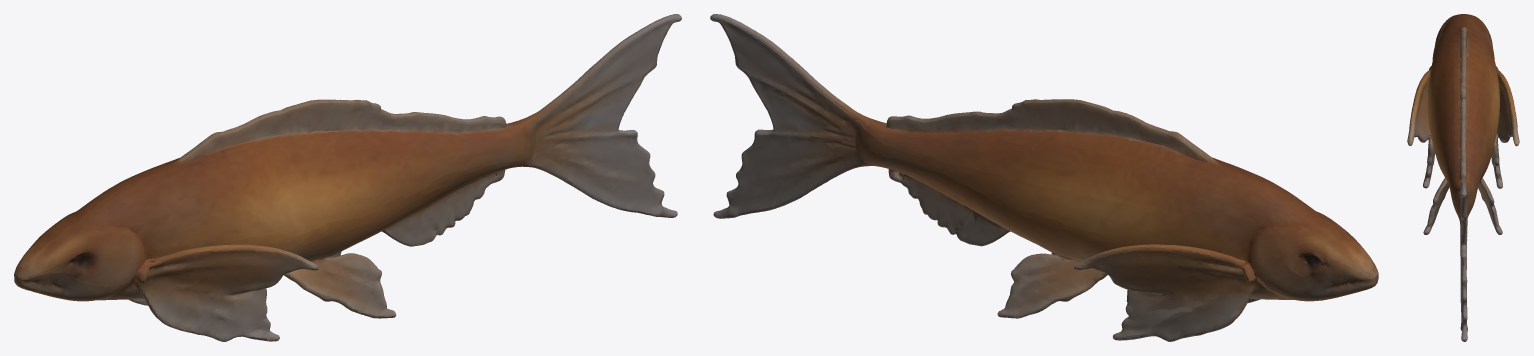
Rendered from fish_hero_parts.glb.
The picture shows the model from 3 angles, left to right: view 1: azimuth 30°, elevation 25°; view 2: azimuth 150°, elevation 25°; view 3: azimuth 270°, elevation 25°; orthographic projection. The views are drawn at different scales.
Visible parts, largest first — view 1: world; view 2: world; view 3: world.
Part boxes in pixels (x1,y1,x2,y2): world: [14, 14, 681, 341]; world: [710, 14, 1378, 341]; world: [1407, 14, 1519, 341].
Size of the model in its own units: 1.6 by 0.4876 by 0.312.
